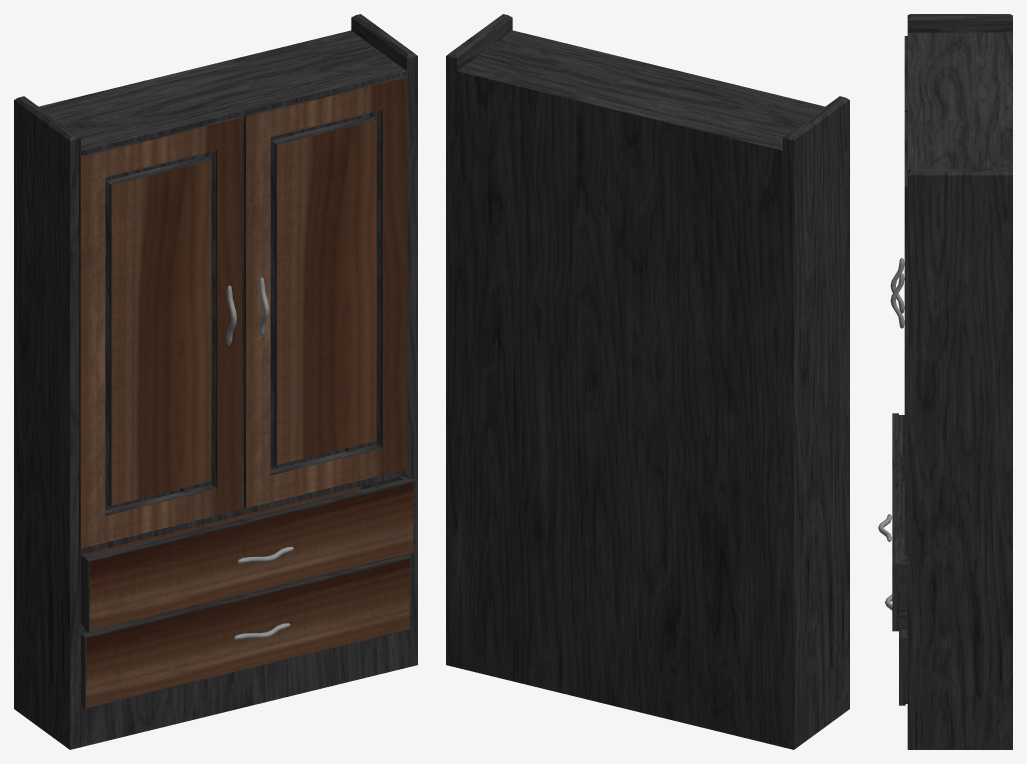
The model's file is Armario.fbx.
The picture shows the model from 3 angles, left to right: view 1: azimuth 30°, elevation 25°; view 2: azimuth 150°, elevation 25°; view 3: azimuth 270°, elevation 25°; orthographic projection. The views are drawn at different scales.
Visible parts, largest first — view 1: pCube32, pCube35, polySurface11, polySurface8, El_conjon_de_abajo2; view 2: pCube32; view 3: pCube32, polySurface8, pCube35, El_conjon_de_abajo2, polySurface11.
Boxes of the visible parts, box(x1,y1,x2,y2) form: pCube32: box(14, 14, 417, 749); pCube35: box(243, 76, 407, 508); polySurface11: box(79, 116, 241, 548); polySurface8: box(81, 476, 415, 632); El_conjon_de_abajo2: box(81, 555, 411, 708); pCube32: box(446, 14, 849, 749); pCube32: box(907, 14, 1012, 749); polySurface8: box(878, 413, 907, 631); pCube35: box(890, 112, 907, 555); El_conjon_de_abajo2: box(885, 594, 907, 705); polySurface11: box(890, 36, 907, 313).
Size of the model in its own units: 134 by 226 by 47.71.
